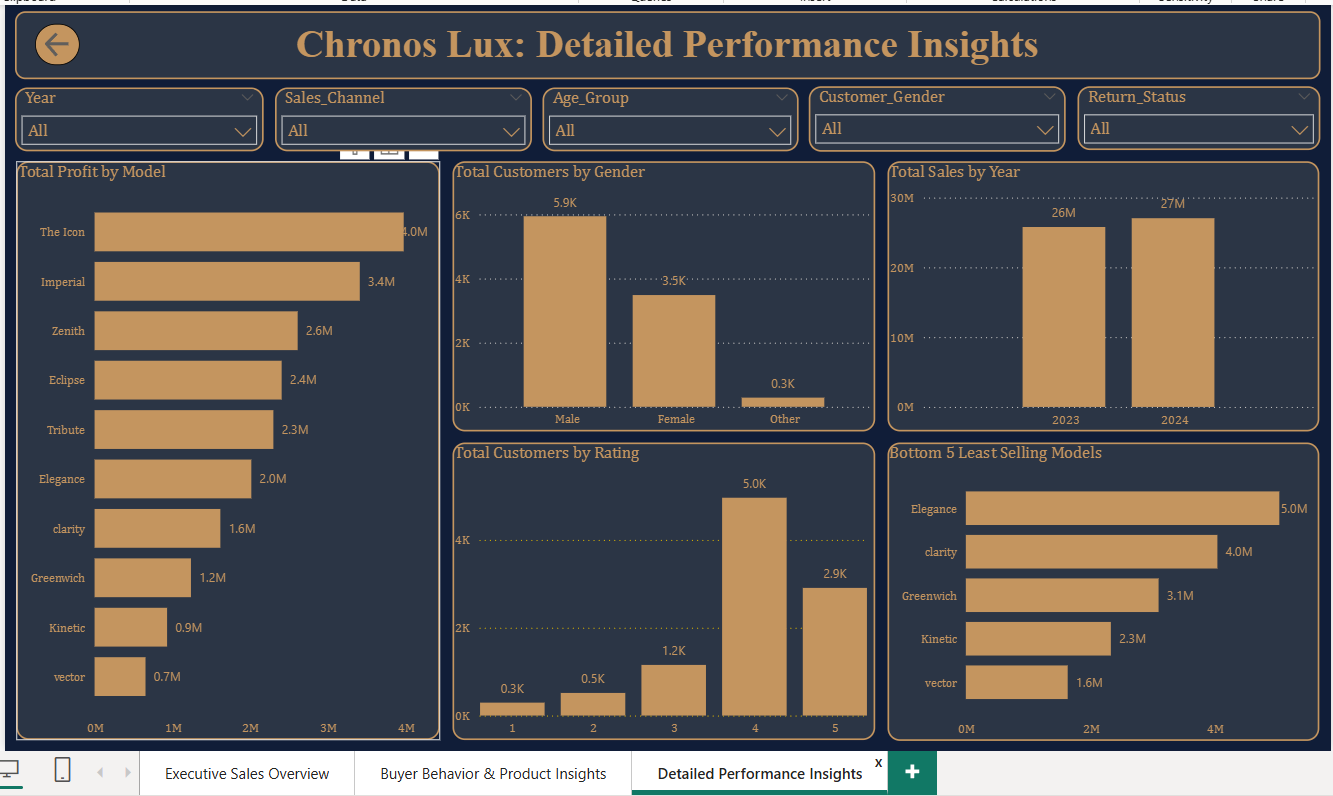

The dashboard page shown, as its layout file describes it:
{"tool":"powerbi","page":{"name":"Detailed Performance Insights","canvas":[1280,720],"ordinal":2},"visuals":[{"type":"columnChart","title":"Total Customers by Rating","fields":{"Category":["Watch sales.Customer_Rating"],"Y":["Watch sales.Total Customers"]},"box":[431.9,422.3,407.8,287.1],"z":0},{"type":"columnChart","title":"Total Customers by Gender","fields":{"Y":["Watch sales.Total Customers"],"Category":["Watch sales.Customer_Gender"]},"box":[431.9,150.8,407.8,260.6],"z":1000},{"type":"clusteredBarChart","title":"Total Profit by Model","fields":{"Y":["Watch sales.Total Profit"],"Category":["Watch sales.Model_Name"]},"box":[11,150.9,408.9,558.5],"z":2000},{"type":"columnChart","fields":{"Category":["Watch sales.Order_Date.Variation.Date Hierarchy.Year"],"Y":["Watch sales.Total Sales"]},"box":[852.1,150.9,417.2,260.7],"z":3000},{"type":"clusteredBarChart","title":"Bottom 5 Least Selling Models","fields":{"Category":["Watch sales.Model_Name"],"Y":["Watch sales.Total Sales"]},"box":[852.1,422.6,417.2,288.2],"z":4000},{"type":"textbox","box":[9.6,5.5,1259.7,65.9],"z":5000},{"type":"slicer","fields":{"Values":["Watch sales.Order_Date.Variation.Date Hierarchy.Year"]},"box":[9.6,79.6,240.1,61.7],"z":6000},{"type":"slicer","fields":{"Values":["Watch sales.Customer_Age_Group"]},"box":[518.7,79.6,247,61.7],"z":7000},{"type":"slicer","fields":{"Values":["Watch sales.Customer_Gender"]},"box":[776,78.2,248.4,63.1],"z":8000},{"type":"slicer","fields":{"Values":["Watch sales.Return_Status"]},"box":[1034.7,78.2,234.6,61.7],"z":9000},{"type":"slicer","fields":{"Values":["Watch sales.Sales_Channel"]},"box":[260,79.6,248.4,61.7],"z":10000},{"type":"actionButton","box":[29,18.1,43.4,39.8],"z":11000}]}

Visuals, with their boxes in screenshot pixels (x1, y1, x2, y2):
"Total Customers by Rating" columnChart: 449 443 884 748
"Total Customers by Gender" columnChart: 449 154 884 431
"Total Profit by Model" clusteredBarChart: 1 154 437 748
columnChart - Watch sales.Order_Date.Variation.Date Hierarchy.Year x Watch sales.Total Sales: 897 154 1332 431
"Bottom 5 Least Selling Models" clusteredBarChart: 897 443 1332 750
textbox: 0 0 1332 69
slicer - Watch sales.Order_Date.Variation.Date Hierarchy.Year: 0 78 255 144
slicer - Watch sales.Customer_Age_Group: 542 78 805 144
slicer - Watch sales.Customer_Gender: 816 76 1080 144
slicer - Watch sales.Return_Status: 1091 76 1332 142
slicer - Watch sales.Sales_Channel: 266 78 531 144
actionButton: 20 12 67 55
